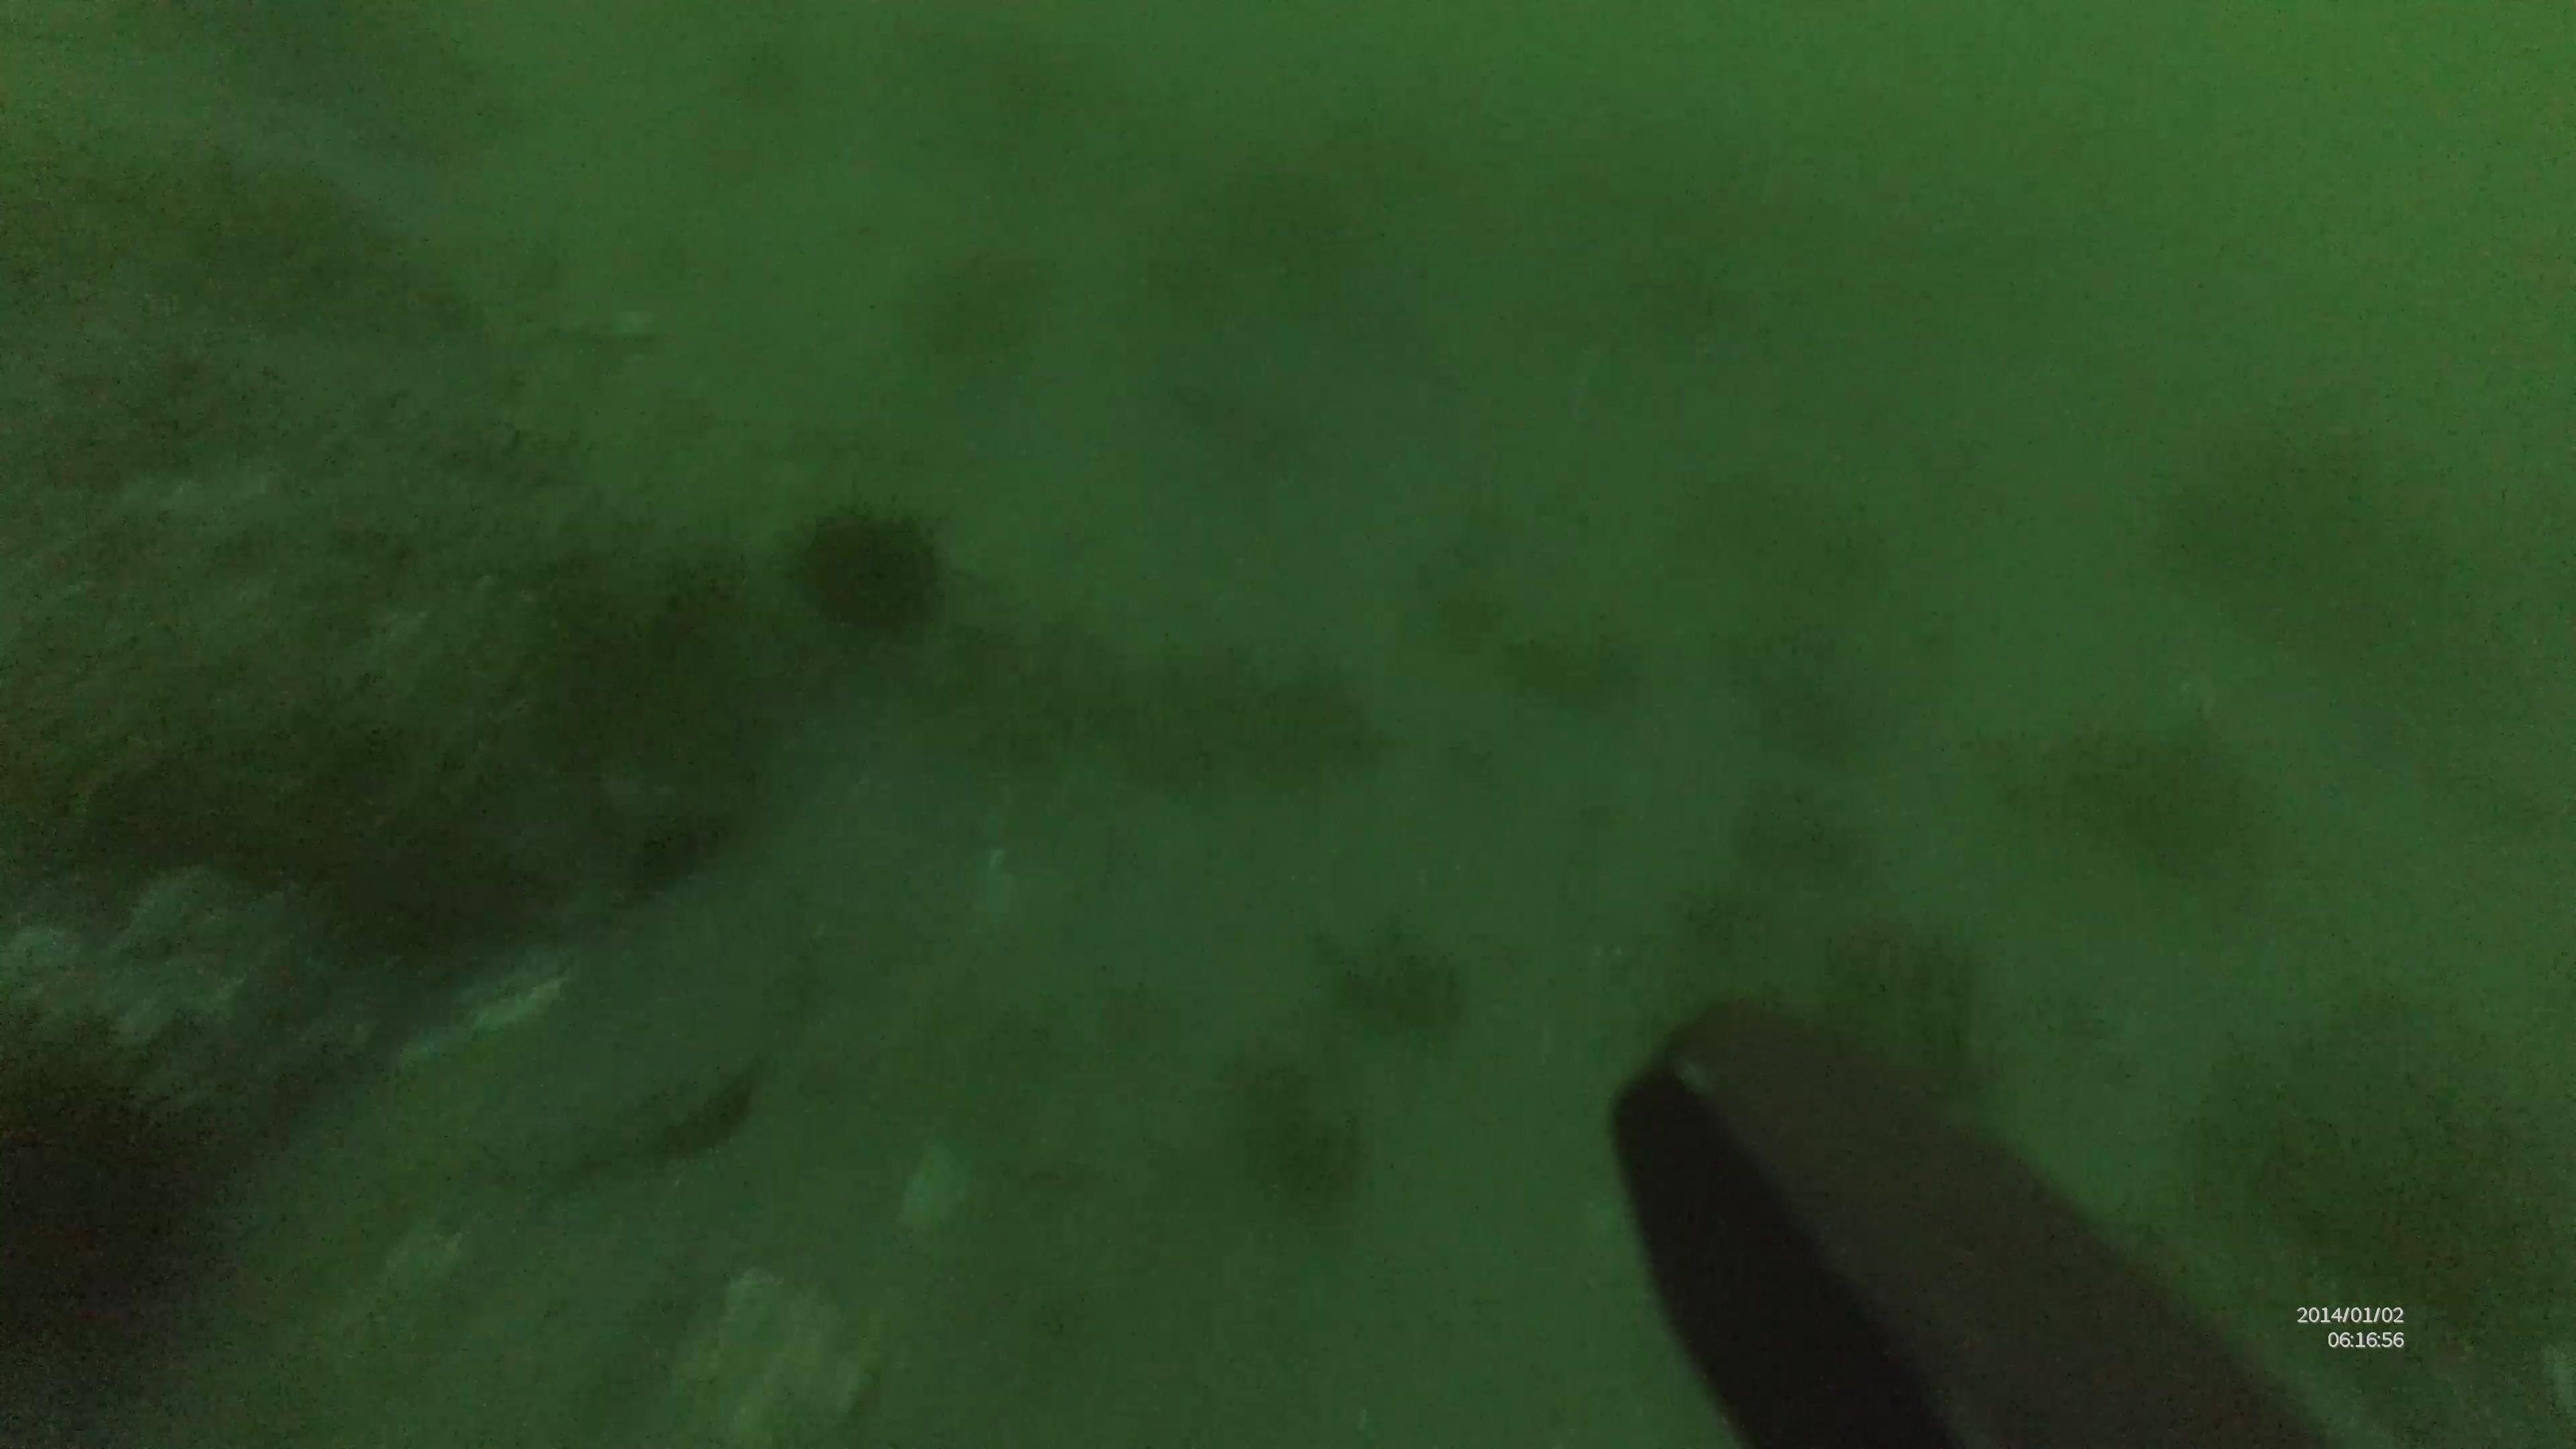echinus: (800, 499, 950, 639)
